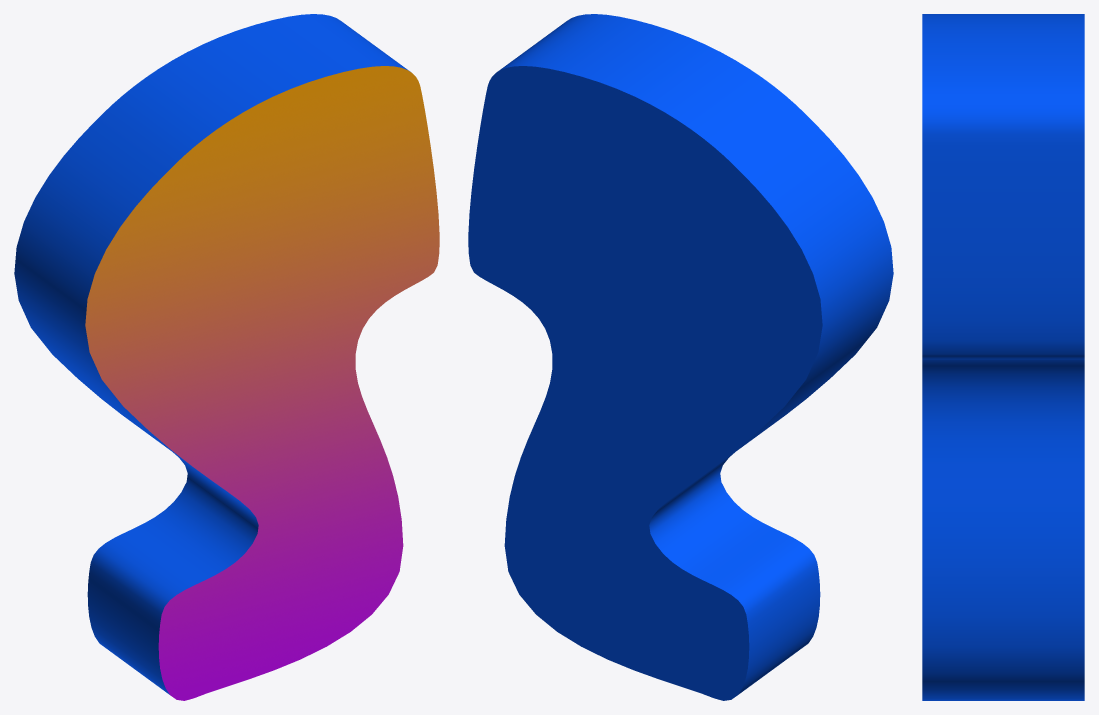
3 views of the same model, side by side, from view 1: azimuth 30°, elevation 25°; view 2: azimuth 150°, elevation 25°; view 3: azimuth 270°, elevation 25° (orthographic). The views are drawn at different scales.
Parts seen in each view (by area): view 1: S; view 2: S; view 3: S.
Part boxes in pixels (x1,y1,x2,y2): S: [14, 14, 439, 700]; S: [468, 14, 893, 700]; S: [922, 14, 1084, 700].
Bounding box in the file's own units: 57.65 × 91.76 × 20.
Materials: 2 (1 with a texture image).
